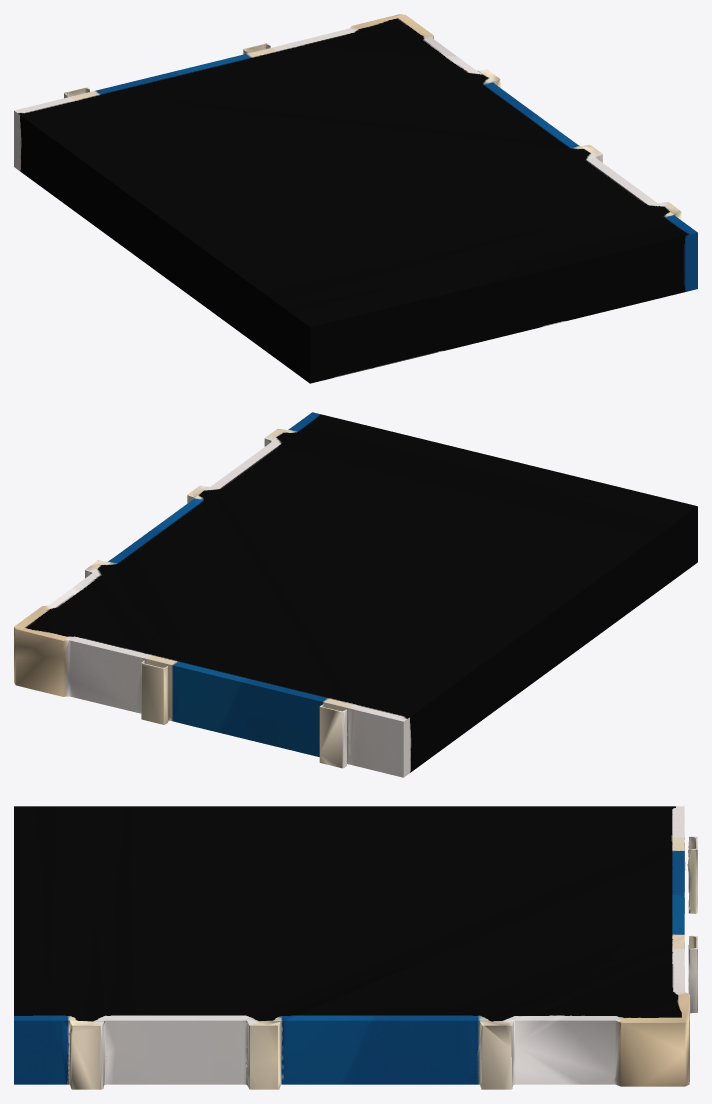
Rendered from 12-roof-back-right.fbx.
3 views of the same model, one above another, from view 1: azimuth 30°, elevation 25°; view 2: azimuth 150°, elevation 25°; view 3: azimuth 270°, elevation 25° (orthographic). The views are drawn at different scales.
Visible parts, largest first — view 1: roof-back-right; view 2: roof-back-right; view 3: roof-back-right.
Boxes of the visible parts, left/top/right/bottom form: roof-back-right: left=14, top=14, right=697, bottom=383; roof-back-right: left=14, top=412, right=697, bottom=777; roof-back-right: left=14, top=806, right=697, bottom=1089.
Size of the model in its own units: 4459 by 605 by 5868.
Materials: 1 (1 with a texture image).
